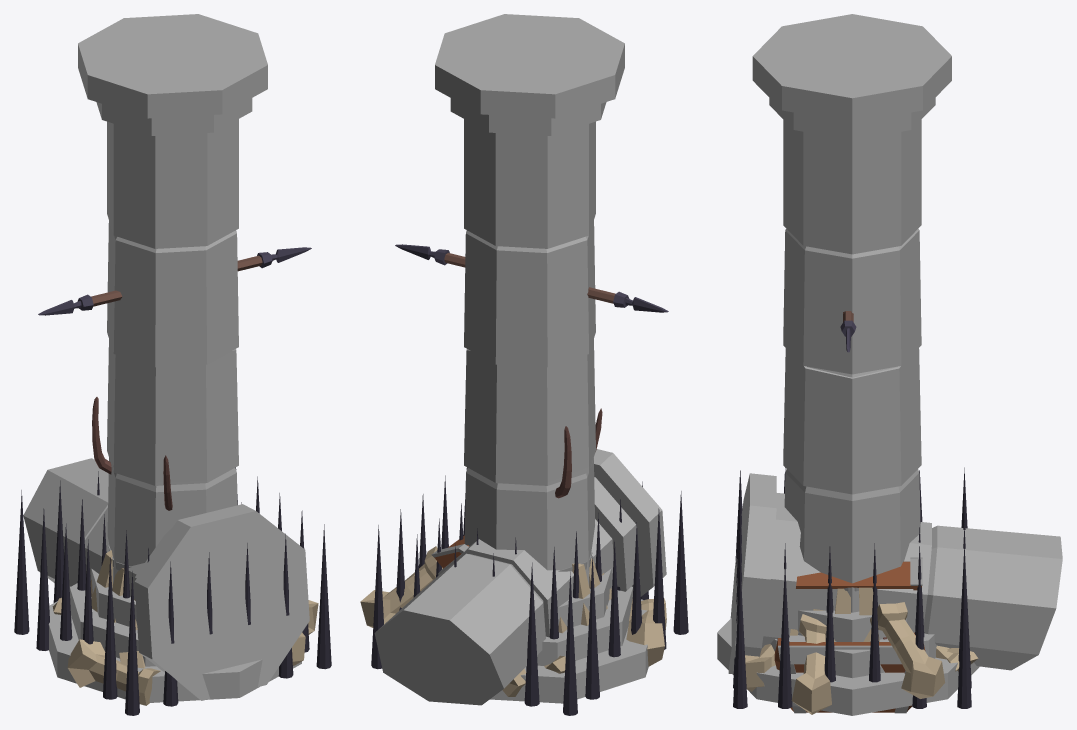
The model's file is kit.glb.
3 renders of one model, left to right at view 1: azimuth 30°, elevation 25°; view 2: azimuth 150°, elevation 25°; view 3: azimuth 270°, elevation 25°, orthographic.
Parts seen in each view (by area): view 1: Column, ColumnBroken, ColumnBroken2, Spikes, BonePile, Banner, CommonTree_Dead_Snow_3, BonePile2; view 2: Column, ColumnBroken2, ColumnBroken, Spikes, BonePile, Banner, CommonTree_Dead_Snow_3; view 3: Column, ColumnBroken2, ColumnBroken, Spikes, BonePile, ChestBottom, ChestTop, BonePile2.
Part boxes in pixels (x1,y1,x2,y2): Column: [49, 14, 301, 702]; ColumnBroken: [23, 458, 309, 700]; ColumnBroken2: [48, 339, 262, 701]; Spikes: [14, 467, 331, 715]; BonePile: [52, 550, 318, 705]; Banner: [38, 247, 311, 315]; CommonTree_Dead_Snow_3: [92, 397, 172, 510]; BonePile2: [119, 632, 305, 668]; Column: [435, 14, 648, 703]; ColumnBroken2: [464, 339, 648, 701]; ColumnBroken: [374, 449, 666, 705]; Spikes: [371, 467, 688, 715]; BonePile: [360, 546, 666, 673]; Banner: [395, 244, 668, 312]; CommonTree_Dead_Snow_3: [555, 408, 602, 498]; Column: [717, 14, 979, 715]; ColumnBroken2: [717, 348, 971, 713]; ColumnBroken: [728, 473, 1062, 673]; Spikes: [733, 467, 971, 708]; BonePile: [790, 587, 959, 714]; ChestBottom: [774, 632, 925, 713]; ChestTop: [796, 557, 922, 590]; BonePile2: [745, 644, 978, 691].
Bounding box in the file's own units: 2.36 × 5.36 × 2.56.
